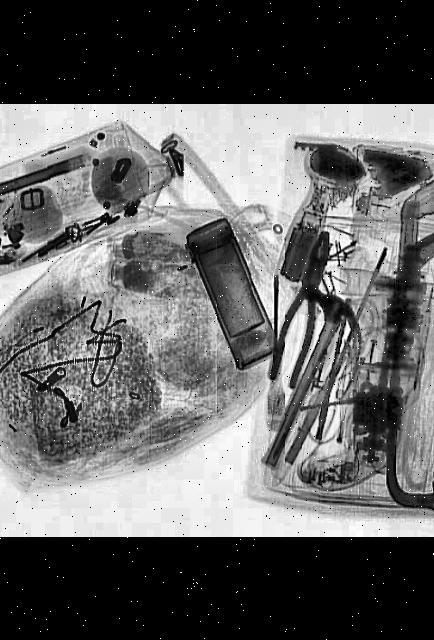Pliers: (266, 226, 344, 387)
